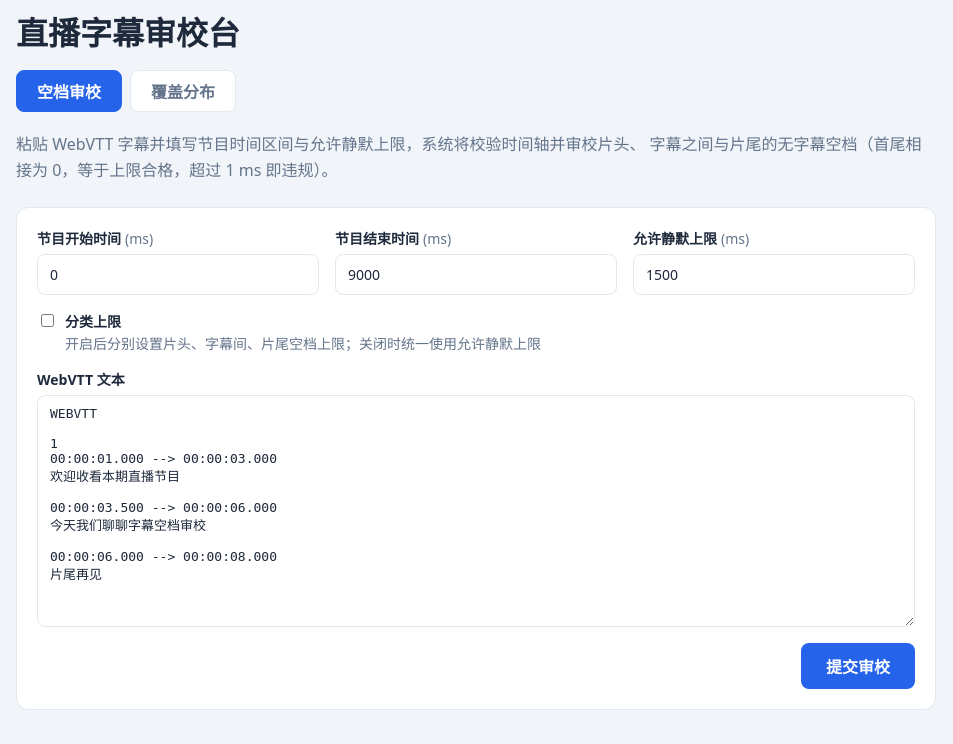
Scenario: App page states › blocks submission locally when start is not before end
Replace the text in the number field with test id "input-start" with "5000" at (178, 275), box [37, 254, 319, 295]
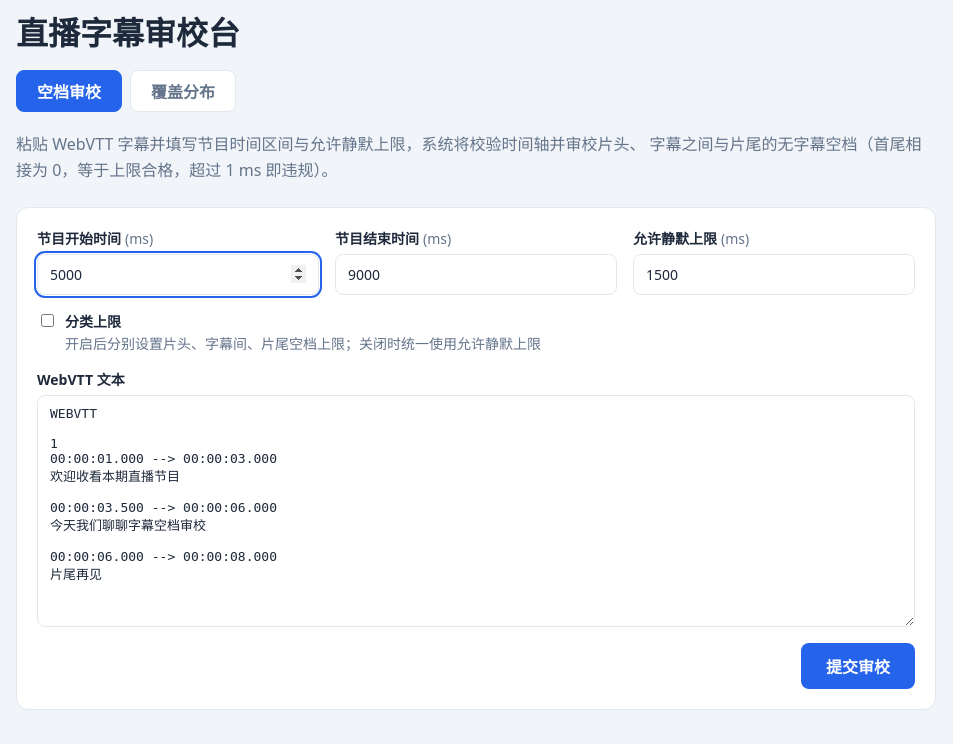
Replace the text in the number field with test id "input-end" with "5000" at (476, 275), box [335, 254, 617, 295]
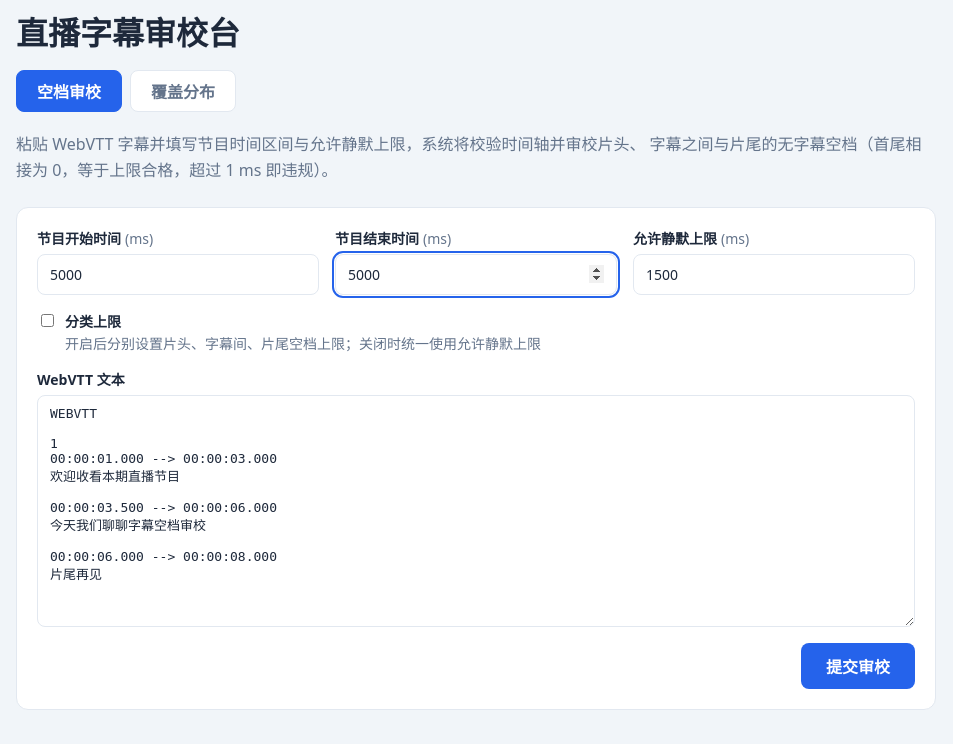
Click the button with test id "submit".
click(858, 666)  # box [801, 643, 915, 689]
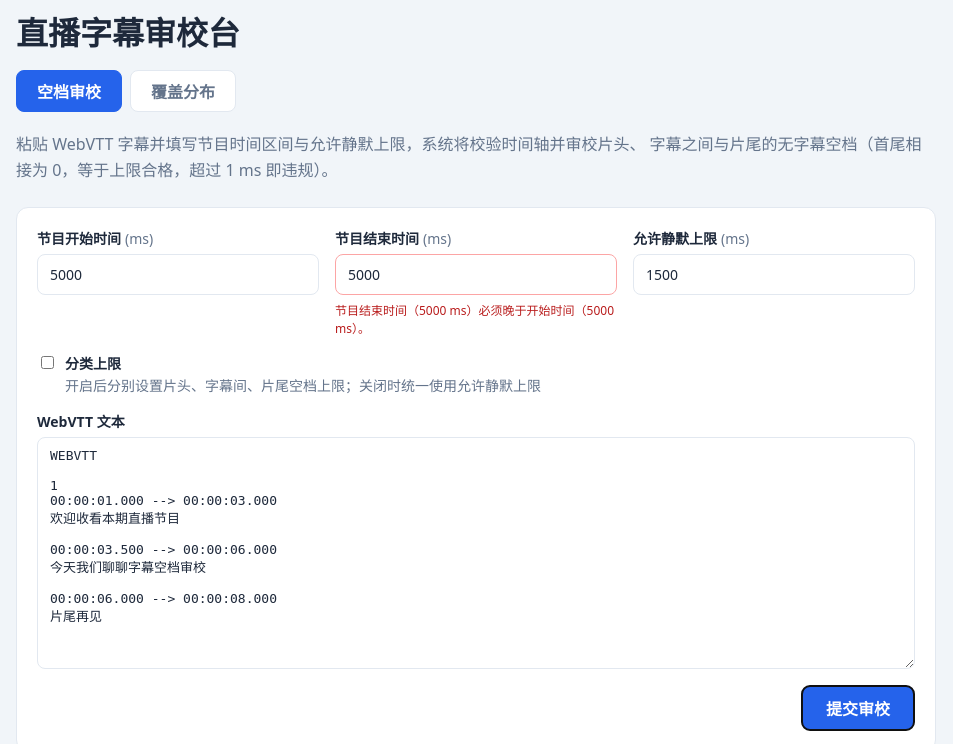
Result: the text "节目结束时间（5000 ms）必须晚于开始时间（5000 ms）。" is shown at [335, 301, 617, 337]
